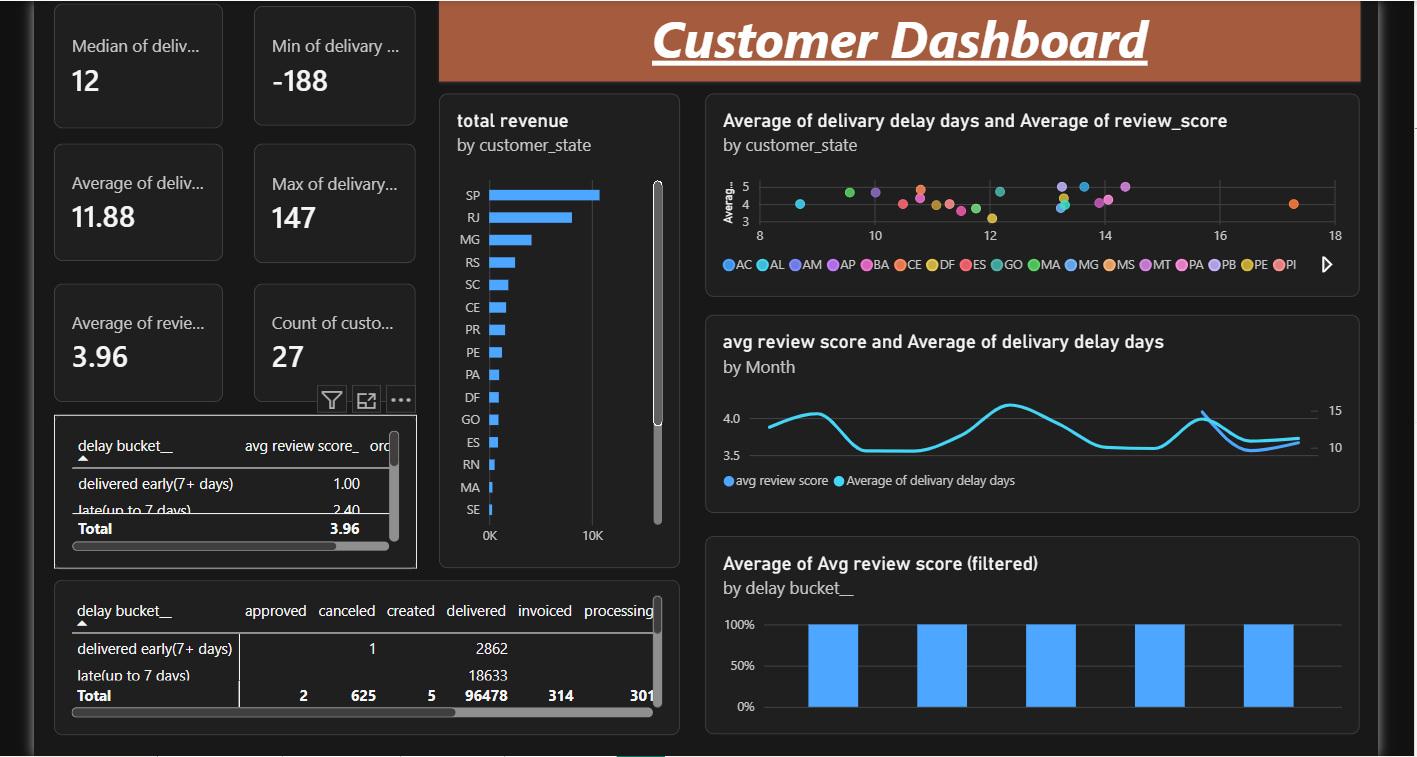

Layout of this report page (visuals, bound fields, positions):
{"tool":"powerbi","page":{"name":"Dashboard ","canvas":[1280,720],"ordinal":0},"visuals":[{"type":"cardVisual","fields":{"Data":["Avg(order_reviews_.review_score)"]},"box":[18.5,269.1,161.7,113.6],"z":0},{"type":"cardVisual","fields":{"Data":["Count(orders_.customer_state)"]},"box":[209.9,269.1,154.3,113.6],"z":1000},{"type":"cardVisual","fields":{"Data":["Avg(orders_.delivary delay days)"]},"box":[18.5,135.8,161.7,112.3],"z":2000},{"type":"cardVisual","fields":{"Data":["Max(orders_.delivary delay days)"]},"box":[209.9,135.8,154.3,114.8],"z":3000},{"type":"cardVisual","fields":{"Data":["Min(orders_.delivary delay days)"]},"box":[209.9,4.9,154.3,114.8],"z":4000},{"type":"cardVisual","fields":{"Data":["Median(orders_.delivary delay days)"]},"box":[18.5,2.5,161.7,119.8],"z":5000},{"type":"scatterChart","fields":{"Series":["orders_.customer_state"],"X":["Avg(orders_.delivary delay days)"],"Y":["Avg(order_reviews_.review_score)"]},"box":[639.5,87.7,623.5,193.8],"z":6000},{"type":"lineChart","fields":{"Category":["orders_.order_delivered_customer_date.Variation.Date Hierarchy.Month"],"Y":["orders_.avg review score"],"Y2":["Avg(orders_.delivary delay days)1"]},"box":[639.5,298.8,623.5,188.9],"z":7000},{"type":"barChart","fields":{"Category":["orders_.customer_state"],"Y":["Datetable.total revenue"]},"box":[385.2,87.7,229.6,451.9],"z":8000},{"type":"hundredPercentStackedColumnChart","fields":{"Category":["orders_.delay bucket__"],"Y":["Avg(Datetable.Avg review score (filtered))"]},"box":[639.5,509.9,623.5,188.9],"z":9000},{"type":"tableEx","fields":{"Values":["orders_.delay bucket__","order_reviews_.avg review score_","order_items_.order count"]},"box":[18.5,393.8,345.7,146.9],"z":10000},{"type":"pivotTable","fields":{"Columns":["orders_.order_status"],"Rows":["orders_.delay bucket__"],"Values":["order_items_.order count"]},"box":[18.5,550.6,596.3,148.1],"z":11000},{"type":"textbox","box":[385.2,0,877.8,76.5],"z":12001}]}

Visuals, with their boxes on the page's 1280x720 design canvas (x1, y1, x2, y2). These are canvas units, not pixel positions in the 1417x757 screenshot, which may show the page scaled, cropped or inside an application window:
cardVisual - Avg(order_reviews_.review_score): [18,269,180,383]
cardVisual - Count(orders_.customer_state): [210,269,364,383]
cardVisual - Avg(orders_.delivary delay days): [18,136,180,248]
cardVisual - Max(orders_.delivary delay days): [210,136,364,251]
cardVisual - Min(orders_.delivary delay days): [210,5,364,120]
cardVisual - Median(orders_.delivary delay days): [18,2,180,122]
scatterChart - orders_.customer_state x Avg(orders_.delivary delay days): [640,88,1263,282]
lineChart - orders_.order_delivered_customer_date.Variation.Date Hierarchy.Month x orders_.avg review score: [640,299,1263,488]
barChart - orders_.customer_state x Datetable.total revenue: [385,88,615,540]
hundredPercentStackedColumnChart - orders_.delay bucket__ x Avg(Datetable.Avg review score (filtered)): [640,510,1263,699]
tableEx - orders_.delay bucket__ x order_reviews_.avg review score_: [18,394,364,541]
pivotTable - orders_.order_status x orders_.delay bucket__: [18,551,615,699]
textbox: [385,0,1263,76]
